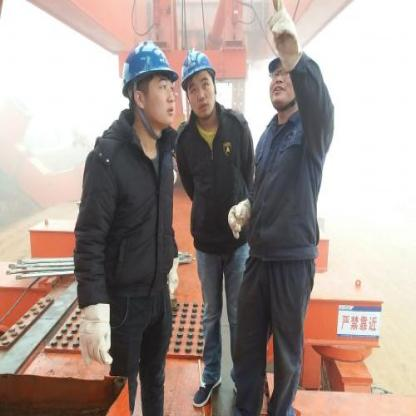helmet: (118, 32, 180, 139), (179, 44, 219, 126)
